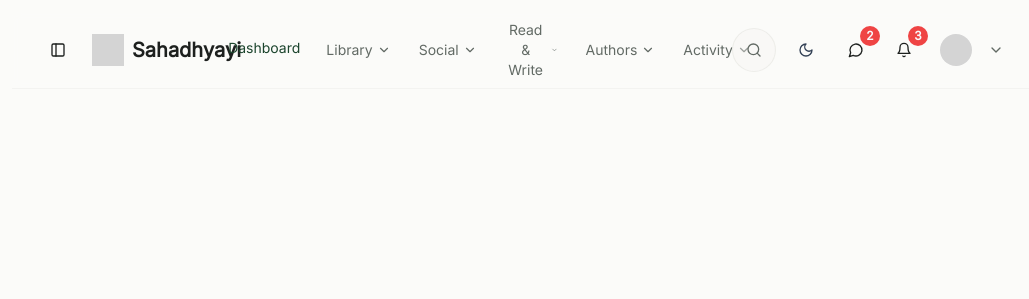
it: Authenticated App Shell & Dashboard (Phase 4) › User Account Menu › displays user profile info, dedicated destinations, and sign out in dropdown
Press the mouse on the button named "User account menu for Test Reader" at x=972, y=50, box left=932, top=30, right=1012, bottom=70
Click the button named "User account menu for Test Reader". click: x=972, y=50
box: left=932, top=30, right=1012, bottom=70
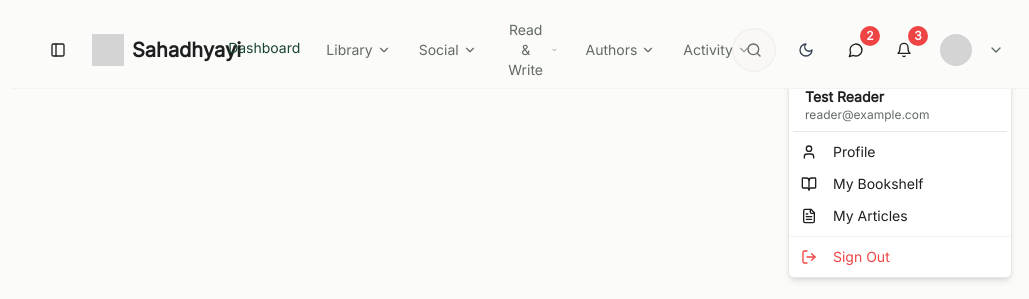
Expected: the text "Test Reader" is shown, left=805, top=88, right=884, bottom=105
Expected: the text "reader@example.com" is shown, left=805, top=107, right=929, bottom=122
Expected: the menu item "Profile" is shown, left=801, top=143, right=876, bottom=160
Click the menu item "Sign Out". click: x=845, y=256
box: left=801, top=248, right=890, bottom=265
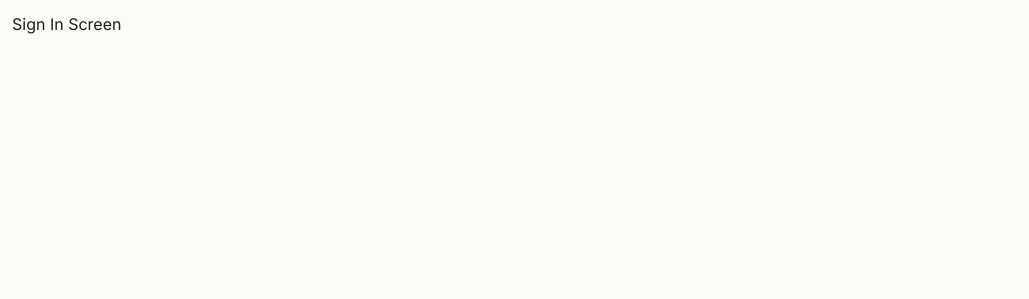
Expected: the text "Sign In Screen" is shown, left=12, top=14, right=121, bottom=34
